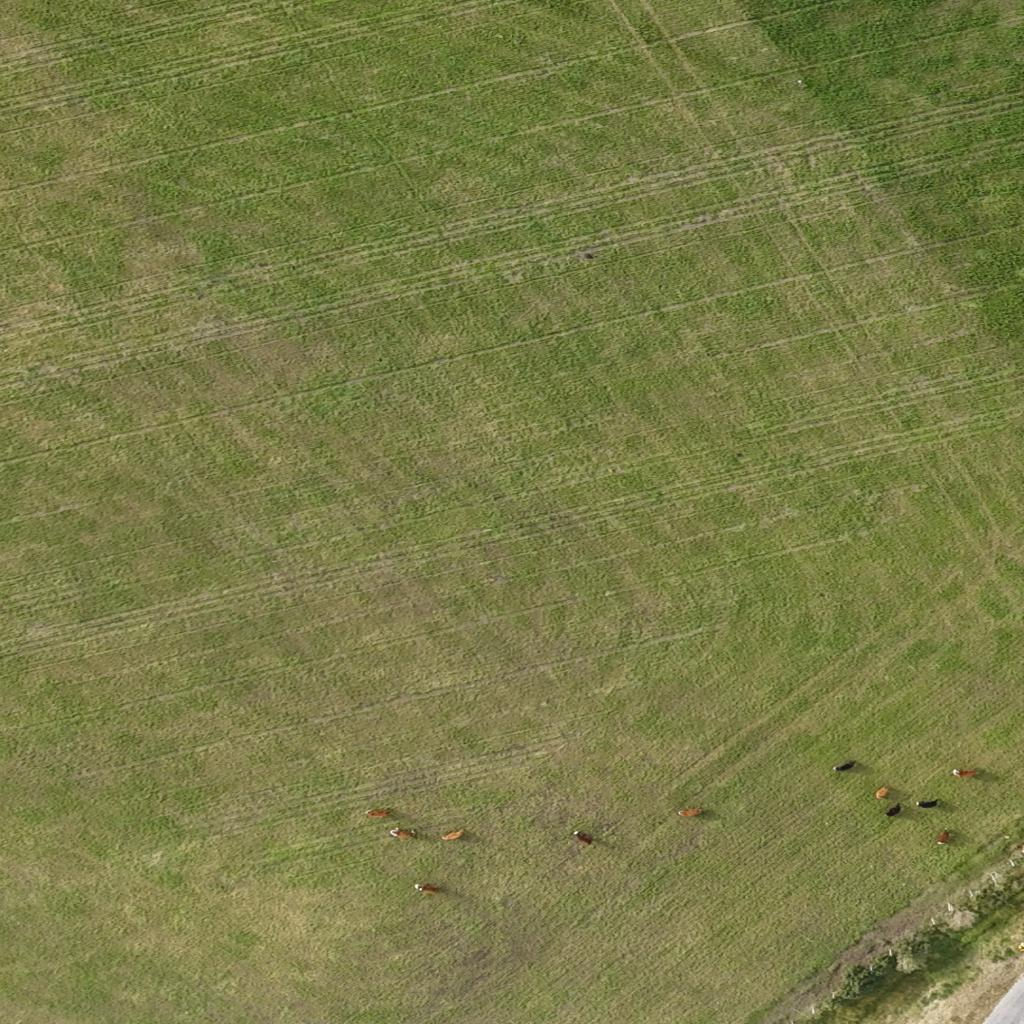cow: (569, 828, 600, 844), (936, 830, 956, 848), (413, 883, 439, 895), (390, 826, 414, 838), (678, 807, 702, 818), (951, 768, 976, 778), (834, 761, 856, 772), (368, 808, 392, 818), (914, 799, 938, 809), (874, 786, 890, 800), (885, 804, 901, 818), (441, 830, 463, 840), (1011, 843, 1024, 855)
